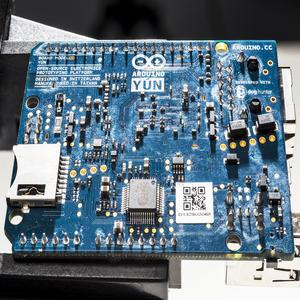duino: (7, 21, 299, 270)
